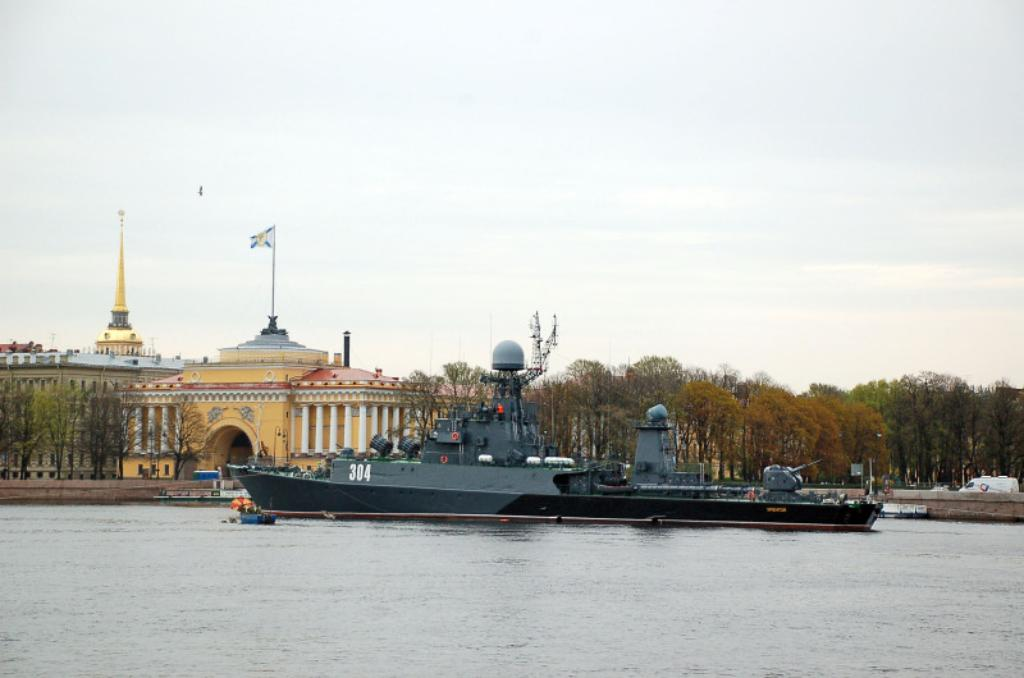Warship: (227, 308, 883, 534)
